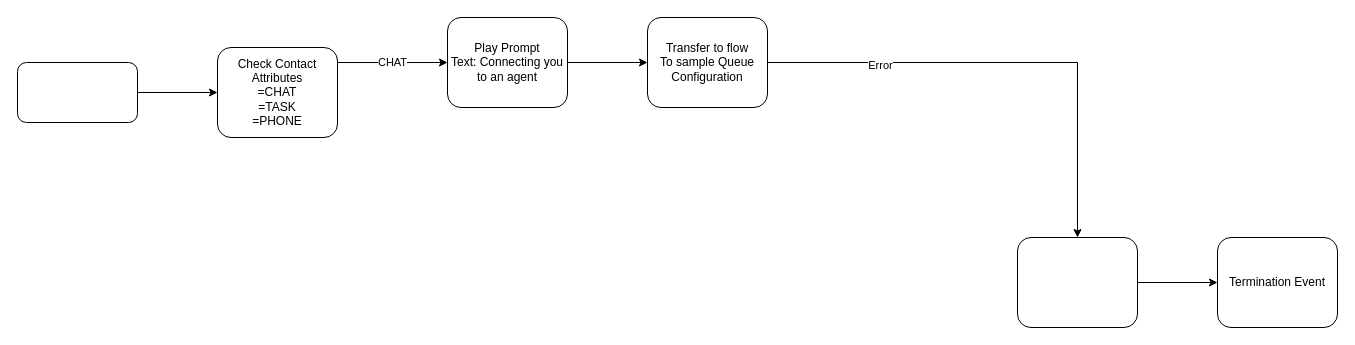
Image size: 1355x345. Some labels were removed from this diagram. Here are the shapes that lost their labels. From the top down, the box of each, then its label:
(16, 62, 138, 122): Start
(1016, 236, 1138, 328): Play Prompt Text: We're sorry an error occurred
